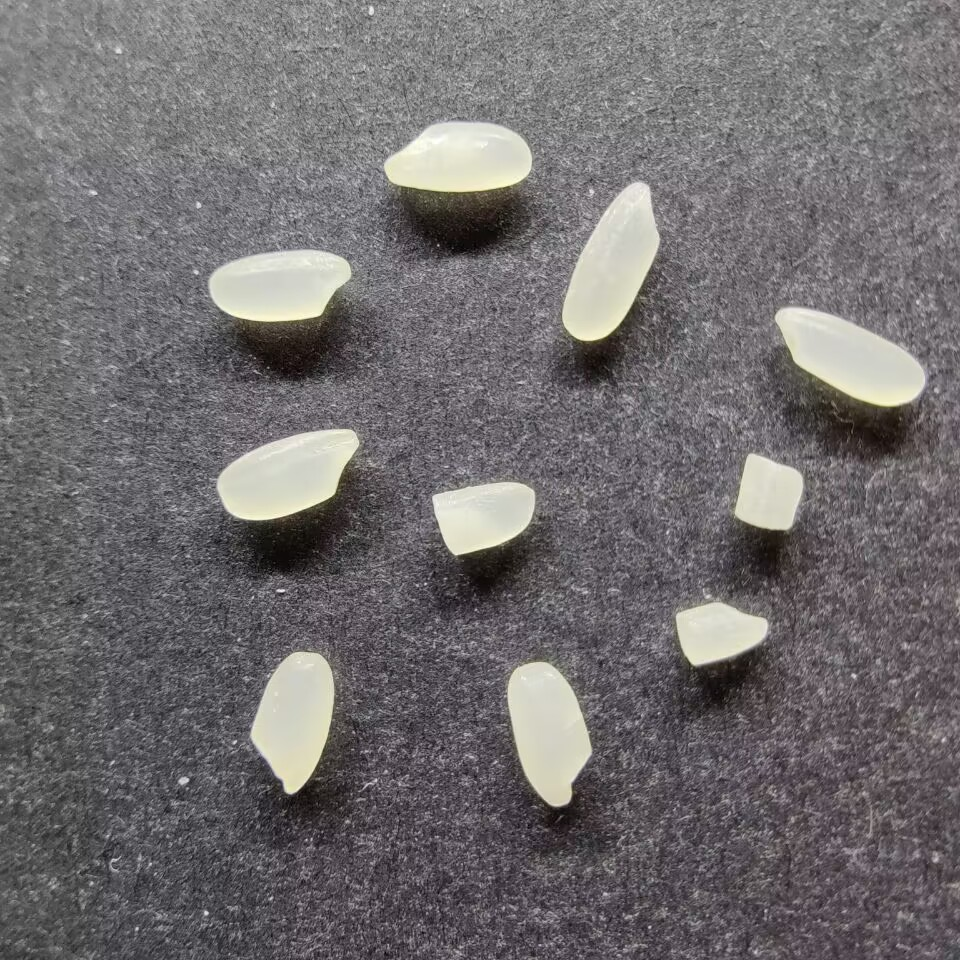broken: (431, 481, 536, 555), (673, 601, 768, 666), (734, 452, 803, 532)
rice: (560, 181, 659, 342), (775, 306, 926, 407), (215, 427, 361, 520), (506, 660, 593, 807), (249, 651, 334, 794), (383, 121, 532, 192), (208, 250, 351, 322)
